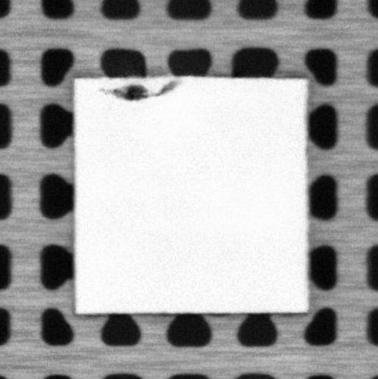DIE_INK: (101, 80, 182, 100)
